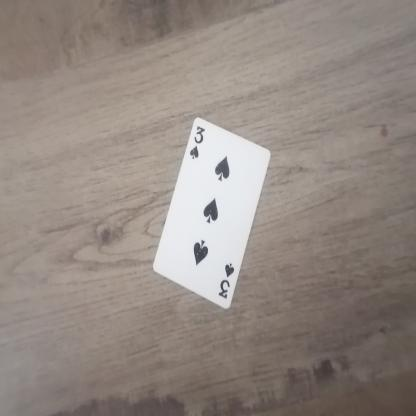3S: (184, 124, 214, 167), (214, 260, 236, 306)
